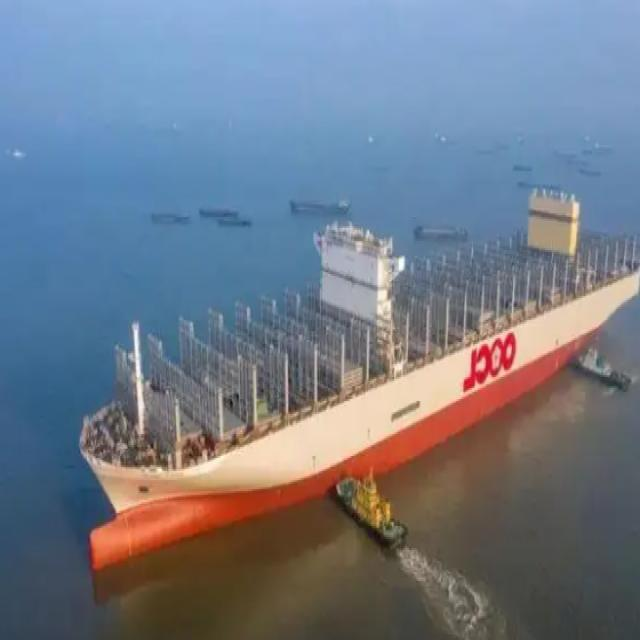cargoship: (73, 160, 640, 590)
houseboat: (331, 444, 408, 568), (570, 334, 637, 402)
